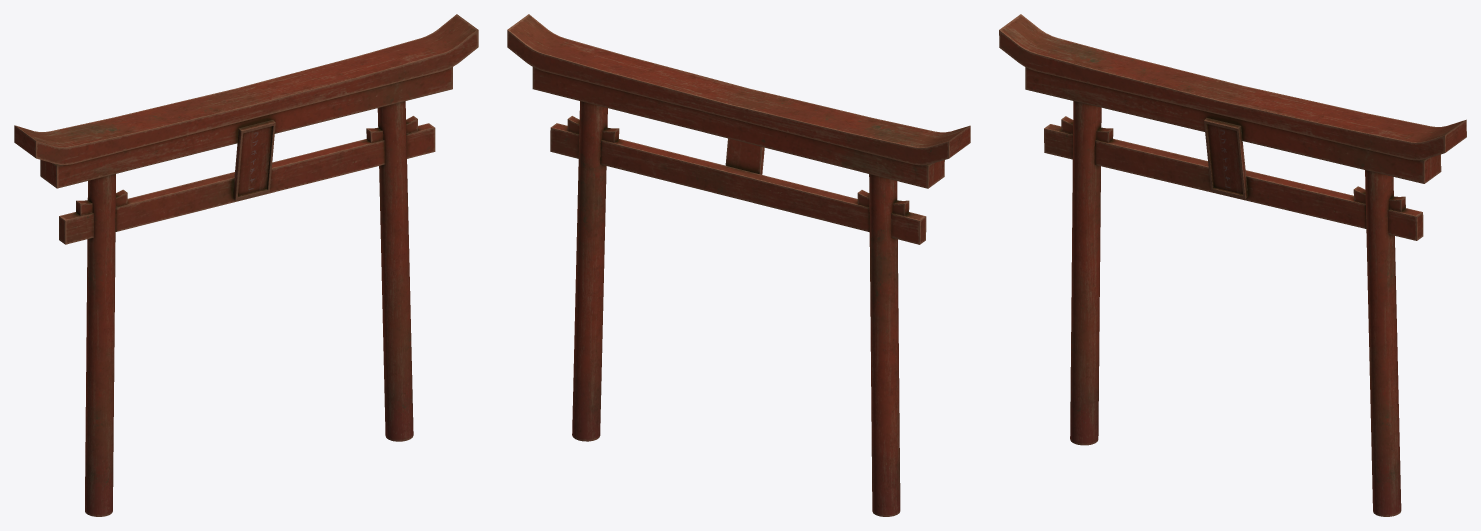
File: stylized_japanese_arch.glb
The picture shows the model from 3 angles, left to right: view 1: azimuth 30°, elevation 25°; view 2: azimuth 150°, elevation 25°; view 3: azimuth 330°, elevation 25°; orthographic projection.
Visible parts, largest first — view 1: SM_Arc; view 2: SM_Arc; view 3: SM_Arc.
Boxes of the visible parts, bbox=[...] form: SM_Arc: bbox=[14, 14, 478, 516]; SM_Arc: bbox=[507, 14, 970, 516]; SM_Arc: bbox=[999, 14, 1466, 516].
Size of the model in its own units: 4.03 by 3.48 by 0.3607.
1 material, 1 textured.
